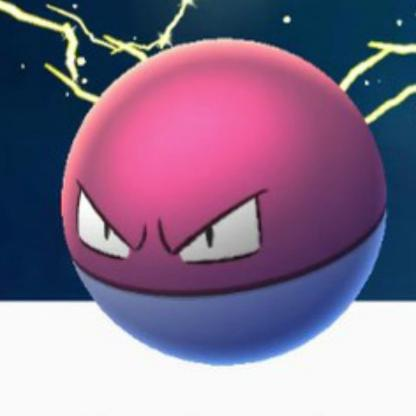Voltorb: (52, 31, 384, 373)
